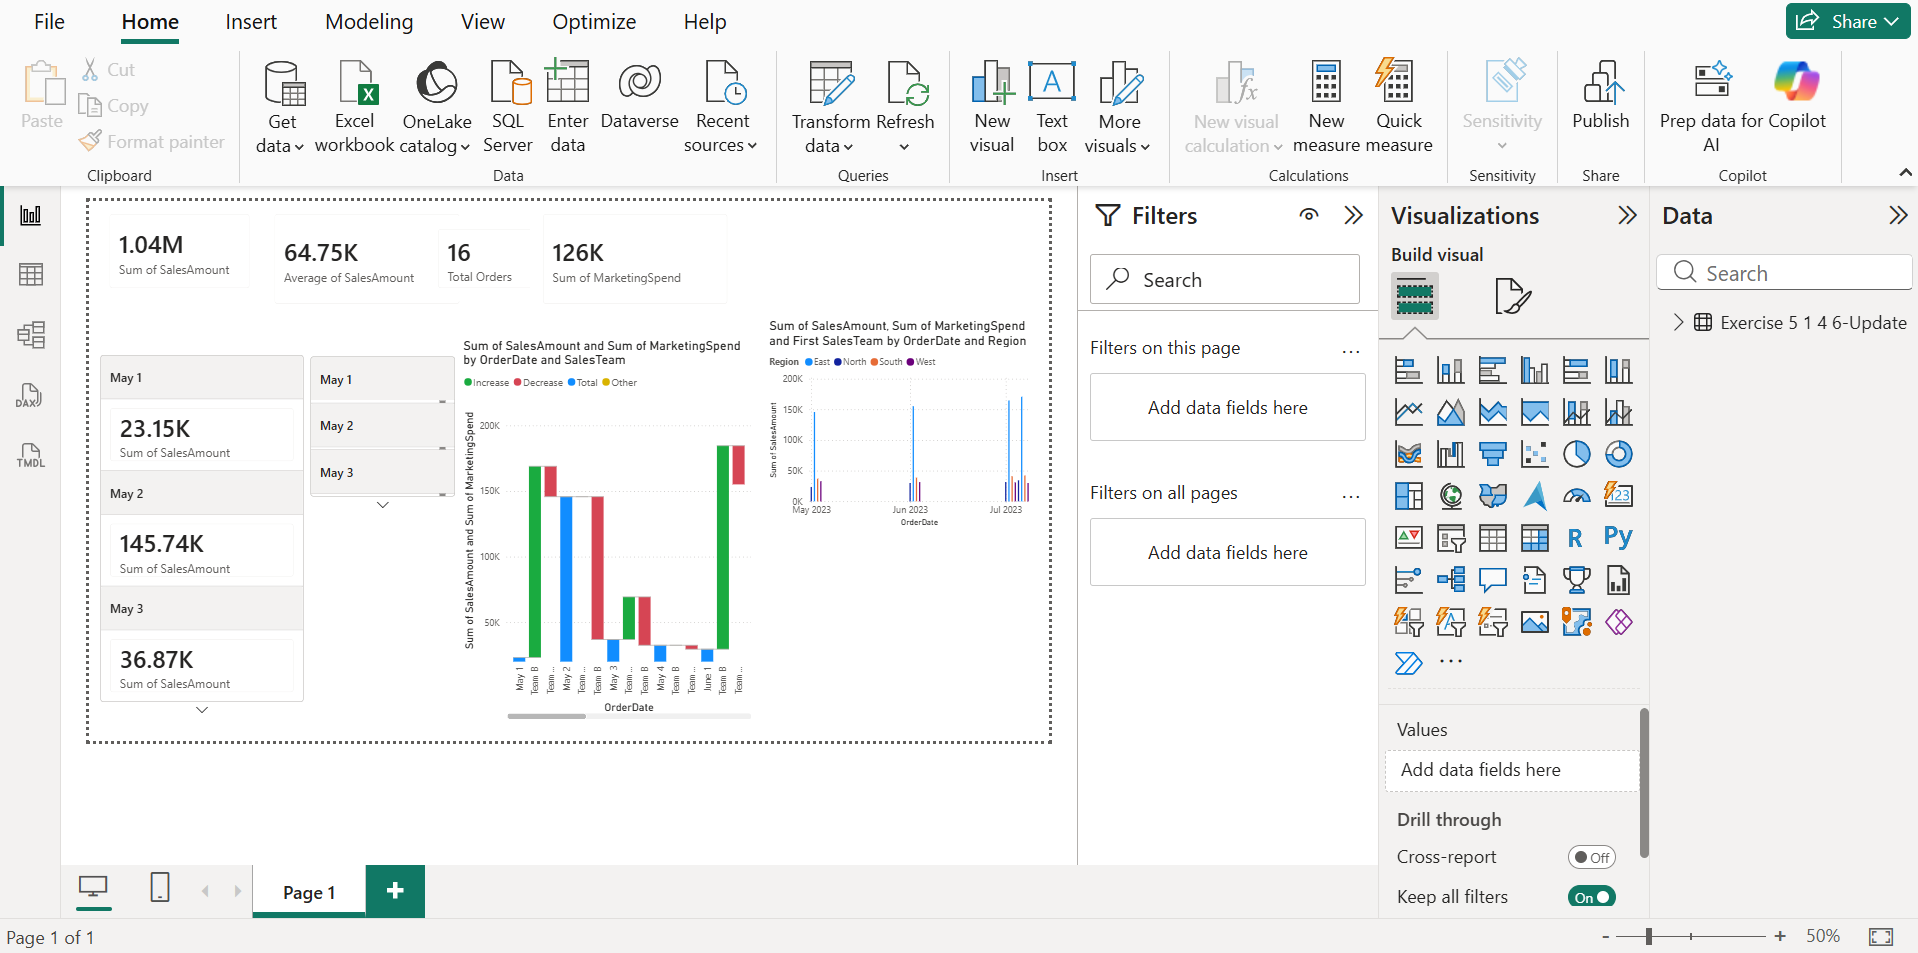

This screenshot's page, from the dashboard's own definition file:
{"tool":"powerbi","page":{"name":"Page 1","canvas":[1280,720],"ordinal":0},"visuals":[{"type":"cardVisual","fields":{"Data":["Sum(Exercise 5 1 4 6-Update.SalesAmount)"]},"box":[9.5,0,221.3,133.2],"z":0},{"type":"cardVisual","fields":{"Data":["Avg(Exercise 5 1 4 6-Update.SalesAmount)"]},"box":[230.8,0,281.9,154.6],"z":1000},{"type":"cardVisual","fields":{"Rows":["Exercise 5 1 4 6-Update.OrderDate"],"Data":["Sum(Exercise 5 1 4 6-Update.SalesAmount)"]},"box":[9.5,180.8,281.9,513.9],"z":2000},{"type":"cardVisual","fields":{"Data":["CountNonNull(Exercise 5 1 4 6-Update.SalesID)"]},"box":[447.3,20.2,280.7,113],"z":3000},{"type":"cardVisual","fields":{"Data":["Sum(Exercise 5 1 4 6-Update.MarketingSpend)"]},"box":[587.7,0,280.7,154.6],"z":4000},{"type":"cardVisual","fields":{"Data":["Sum(Exercise 5 1 4 6-Update.MarketingSpend)"],"Rows":["Exercise 5 1 4 6-Update.OrderDate"]},"box":[290.8,181.5,203.1,238.5],"z":5000},{"type":"waterfallChart","fields":{"Y":["Sum(Exercise 5 1 4 6-Update.SalesAmount)"],"Category":["Exercise 5 1 4 6-Update.OrderDate"],"Breakdown":["Exercise 5 1 4 6-Update.SalesTeam"]},"box":[493.8,181.5,393.8,513.8],"z":6000},{"type":"ribbonChart","fields":{"Y":["Sum(Exercise 5 1 4 6-Update.SalesAmount)"],"Category":["Exercise 5 1 4 6-Update.OrderDate"],"Series":["Exercise 5 1 4 6-Update.Region"]},"box":[901.5,155.4,378.5,283.1],"z":7000}]}

Visuals, with their boxes on the page's 1280x720 design canvas (x1, y1, x2, y2). These are canvas units, not pixel positions in the 1918x953 screenshot, which may show the page scaled, cropped or inside an application window:
cardVisual - Sum(Exercise 5 1 4 6-Update.SalesAmount): [10,0,231,133]
cardVisual - Avg(Exercise 5 1 4 6-Update.SalesAmount): [231,0,513,155]
cardVisual - Exercise 5 1 4 6-Update.OrderDate x Sum(Exercise 5 1 4 6-Update.SalesAmount): [10,181,291,695]
cardVisual - CountNonNull(Exercise 5 1 4 6-Update.SalesID): [447,20,728,133]
cardVisual - Sum(Exercise 5 1 4 6-Update.MarketingSpend): [588,0,868,155]
cardVisual - Sum(Exercise 5 1 4 6-Update.MarketingSpend) x Exercise 5 1 4 6-Update.OrderDate: [291,182,494,420]
waterfallChart - Sum(Exercise 5 1 4 6-Update.SalesAmount) x Exercise 5 1 4 6-Update.OrderDate: [494,182,888,695]
ribbonChart - Sum(Exercise 5 1 4 6-Update.SalesAmount) x Exercise 5 1 4 6-Update.OrderDate: [902,155,1280,438]
